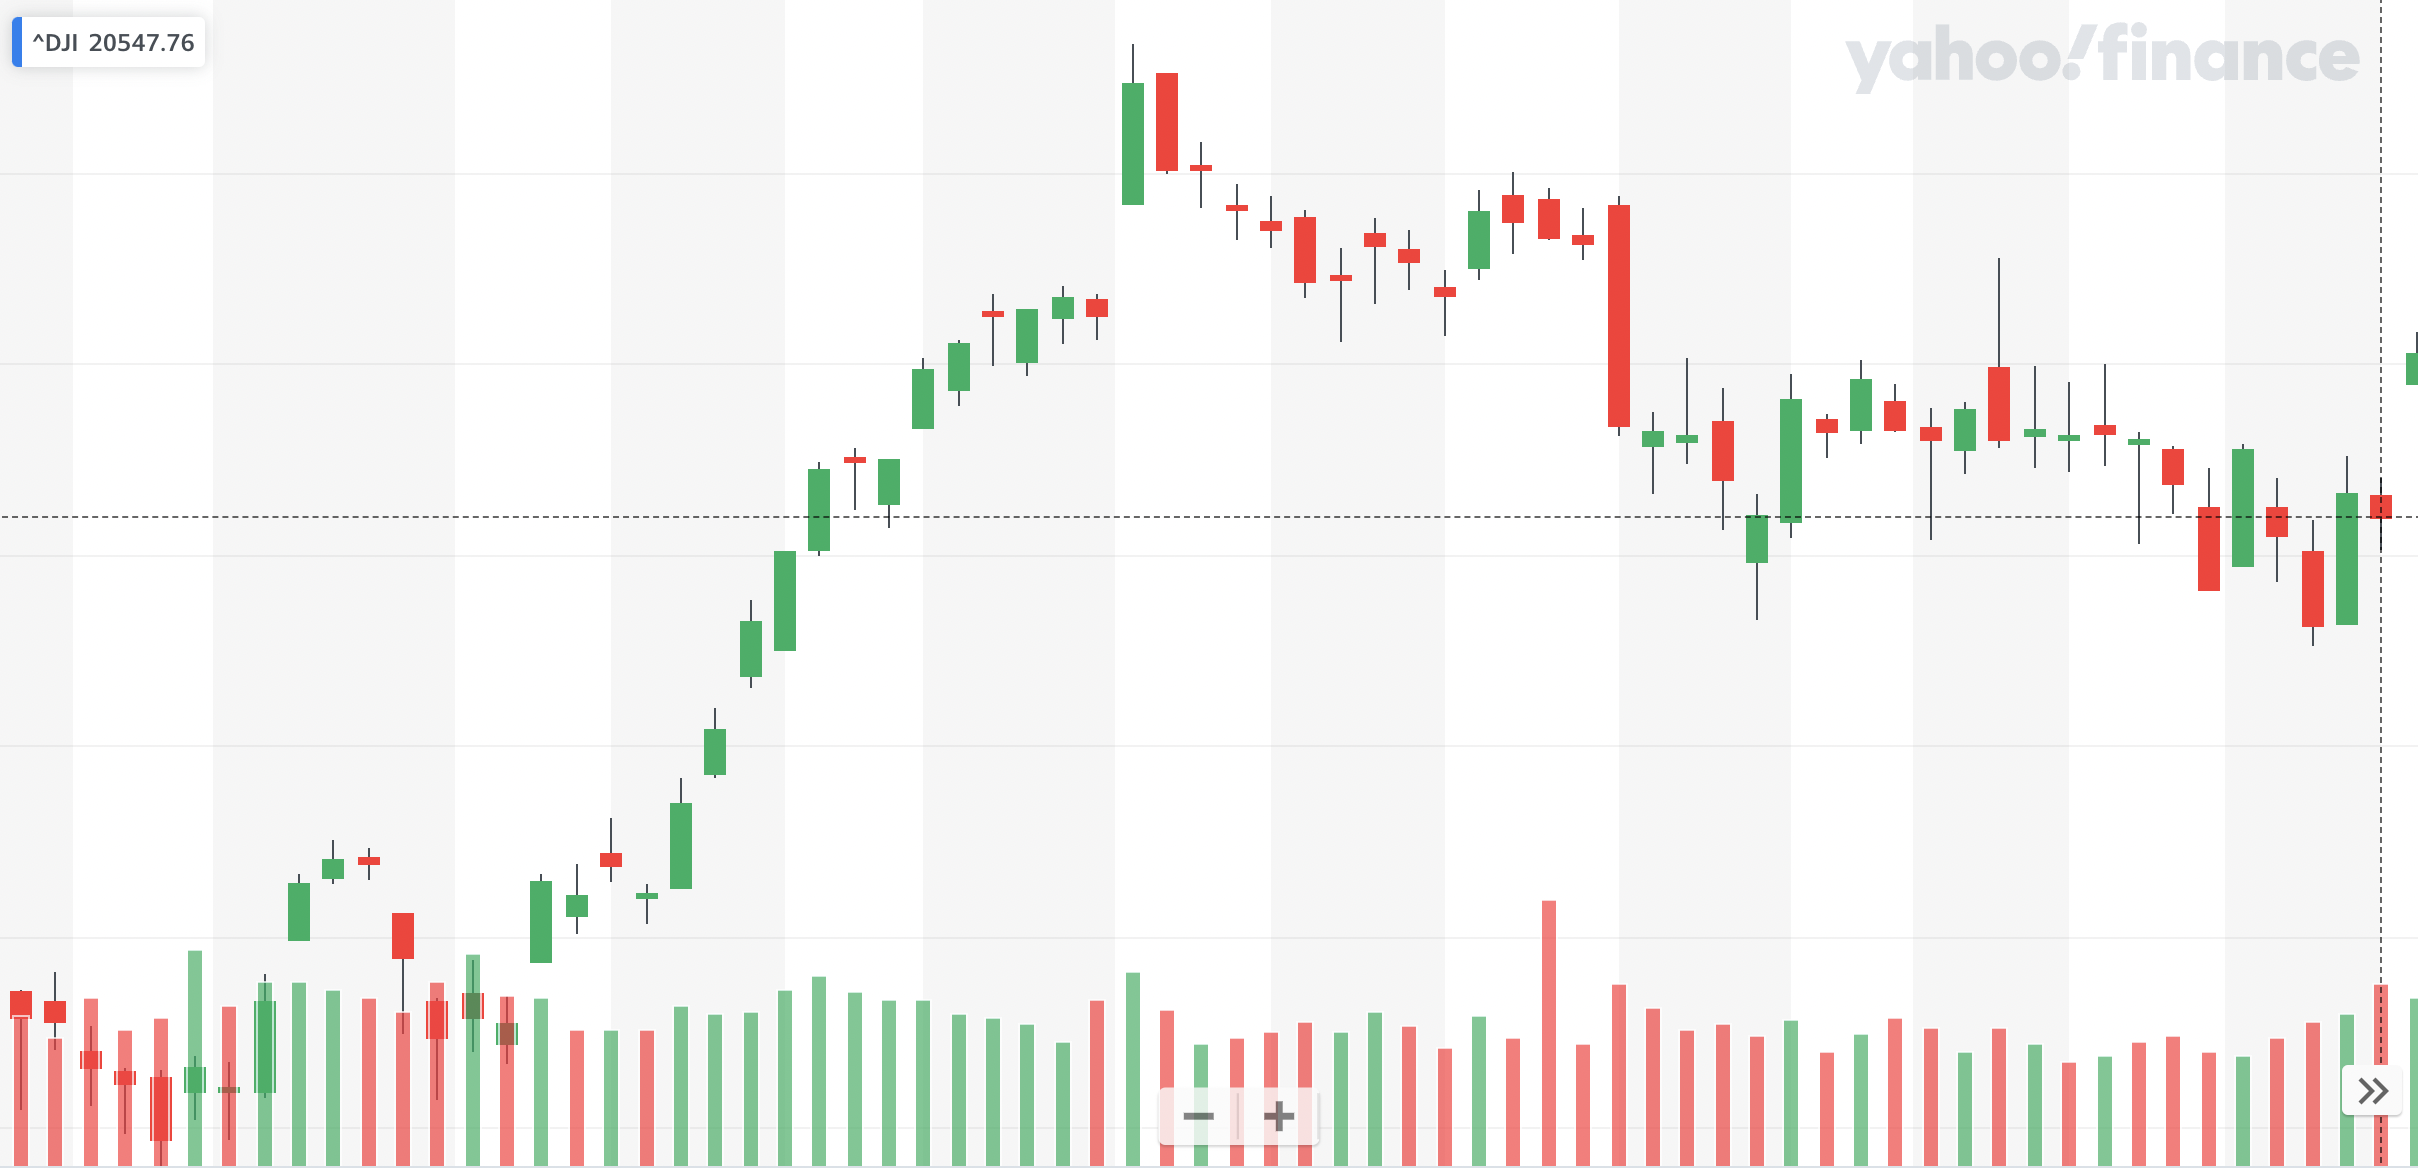Three White Soldiers: (674, 344, 788, 592)
